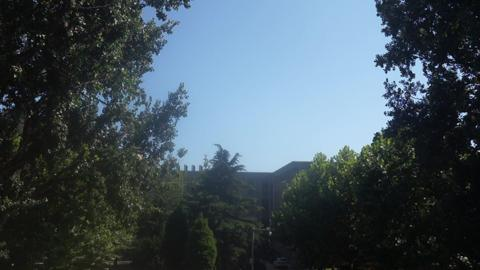UAV: (282, 181, 287, 184)
